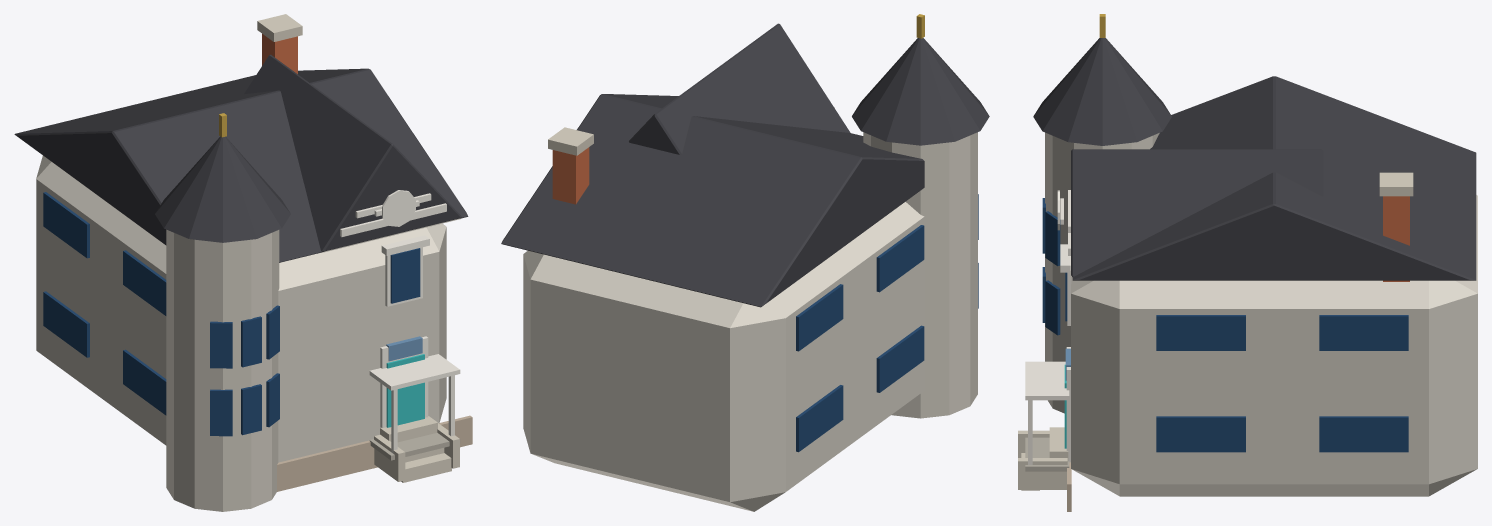
File: qa_w9_turret.glb
3 views of the same model, side by side, from view 1: azimuth 30°, elevation 25°; view 2: azimuth 150°, elevation 25°; view 3: azimuth 270°, elevation 25° (orthographic). The views are drawn at different scales.
Parts seen in each view (by area): view 1: walls, roof, turret, roof.001, tcone, bsmt, proof, sb.002, sb.006, sb, sb.004, wgl (+19 smaller); view 2: walls, roof, turret, roof.001, tcone, sb, sb.004, sb.002, sb.006, chimney, chimcap; view 3: walls, roof, roof.001, tcone, turret, sb.001, sb.003, sb.005, sb.007, proof, cheek.001, chimney (+5 smaller).
Part boxes in pixels (x1,y1,x2,y2): walls: [36, 155, 446, 462]; roof: [14, 68, 468, 262]; turret: [166, 229, 279, 511]; roof.001: [244, 54, 461, 252]; tcone: [155, 136, 290, 242]; bsmt: [277, 415, 472, 491]; proof: [369, 354, 460, 390]; sb.002: [43, 291, 89, 357]; sb.006: [43, 192, 89, 258]; sb: [123, 349, 166, 415]; sb.004: [123, 250, 166, 315]; wgl: [390, 248, 420, 303]; walls: [523, 202, 924, 511]; roof: [501, 94, 924, 307]; turret: [863, 132, 977, 418]; roof.001: [629, 23, 850, 154]; tcone: [852, 38, 989, 145]; sb: [876, 325, 924, 392]; sb.004: [876, 225, 924, 292]; sb.002: [796, 385, 843, 452]; sb.006: [796, 284, 843, 351]; chimney: [552, 147, 589, 204]; chimcap: [548, 127, 593, 155]; walls: [1071, 195, 1477, 496]; roof: [1072, 76, 1476, 280]; roof.001: [1071, 149, 1323, 276]; tcone: [1033, 38, 1171, 145]; turret: [1045, 132, 1159, 413]; sb.001: [1156, 416, 1245, 452]; sb.003: [1319, 416, 1408, 452]; sb.005: [1156, 315, 1245, 350]; sb.007: [1319, 315, 1408, 350]; proof: [1025, 361, 1069, 400]; cheek.001: [1018, 458, 1067, 489]; chimney: [1383, 196, 1409, 281].
Size of the model in its own units: 10.22 by 12.4 by 13.56.
